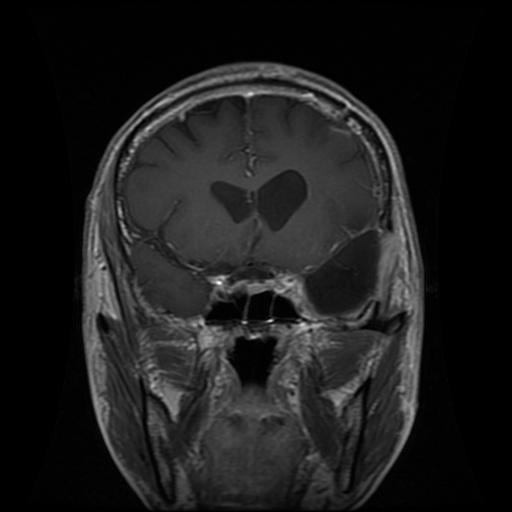glioma: (300, 228, 399, 318)
